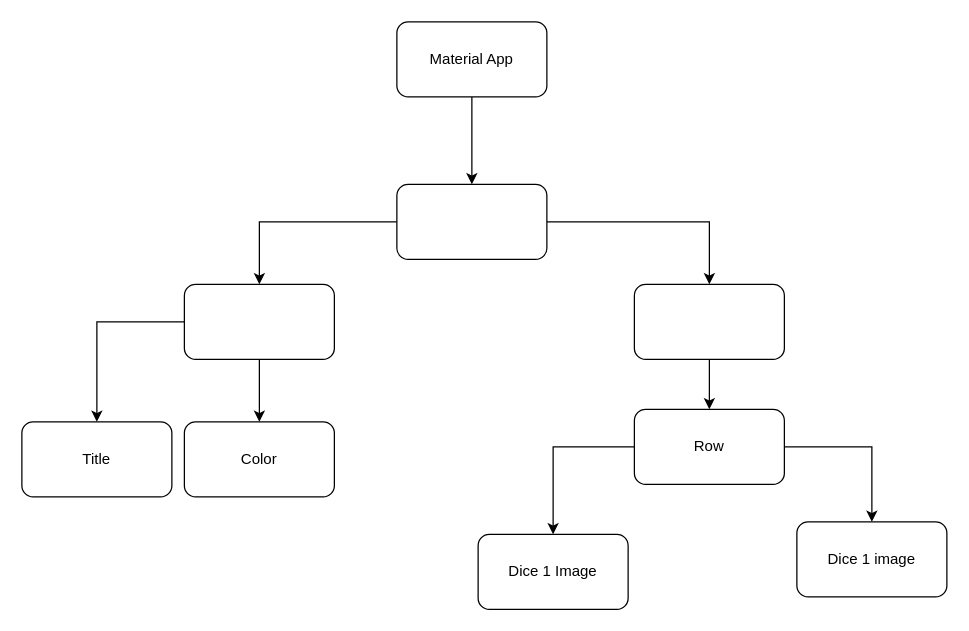
Image size: 969x631. Some labels were removed from this diagram. Here are the shapes that lost their labels. From the top down, the box of each, then its label:
(396, 183, 547, 259): Scaffold
(183, 283, 334, 359): App Bar
(633, 283, 784, 359): Body
